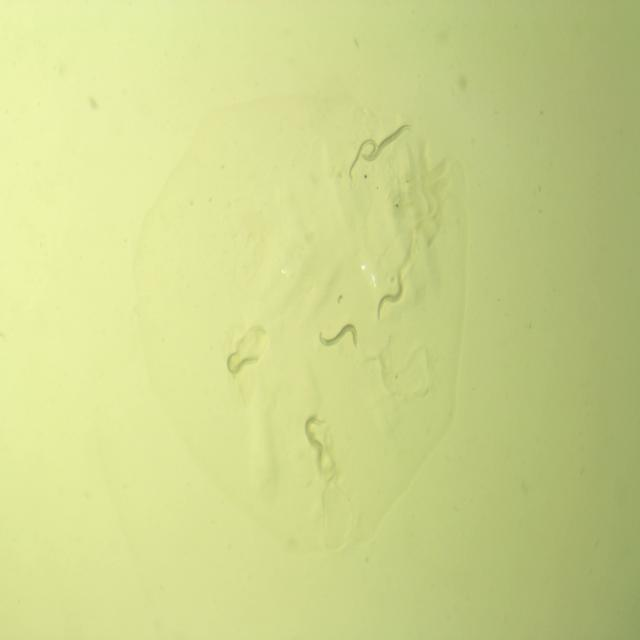worm: (360, 118, 414, 164), (372, 270, 408, 326), (315, 318, 361, 360), (221, 343, 263, 383), (346, 137, 380, 186), (302, 410, 331, 463)
